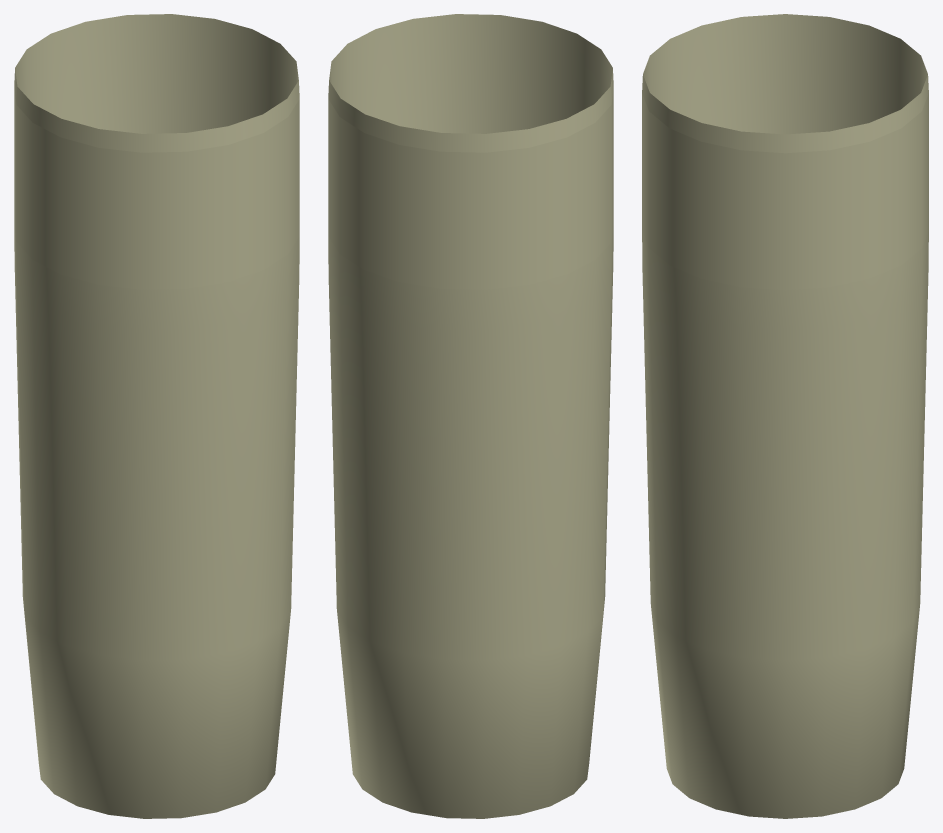
Rendered from plate_medium.fbx.
The picture shows the model from 3 angles, left to right: view 1: azimuth 30°, elevation 25°; view 2: azimuth 150°, elevation 25°; view 3: azimuth 270°, elevation 25°; orthographic projection.
Parts seen in each view (by area): view 1: medium_plate; view 2: medium_plate; view 3: medium_plate.
Boxes of the visible parts, x1,y1,x2,y2 form: medium_plate: (14,14,299,818); medium_plate: (328,14,613,818); medium_plate: (642,14,928,818).
Size of the model in its own units: 846 by 2259 by 846.
